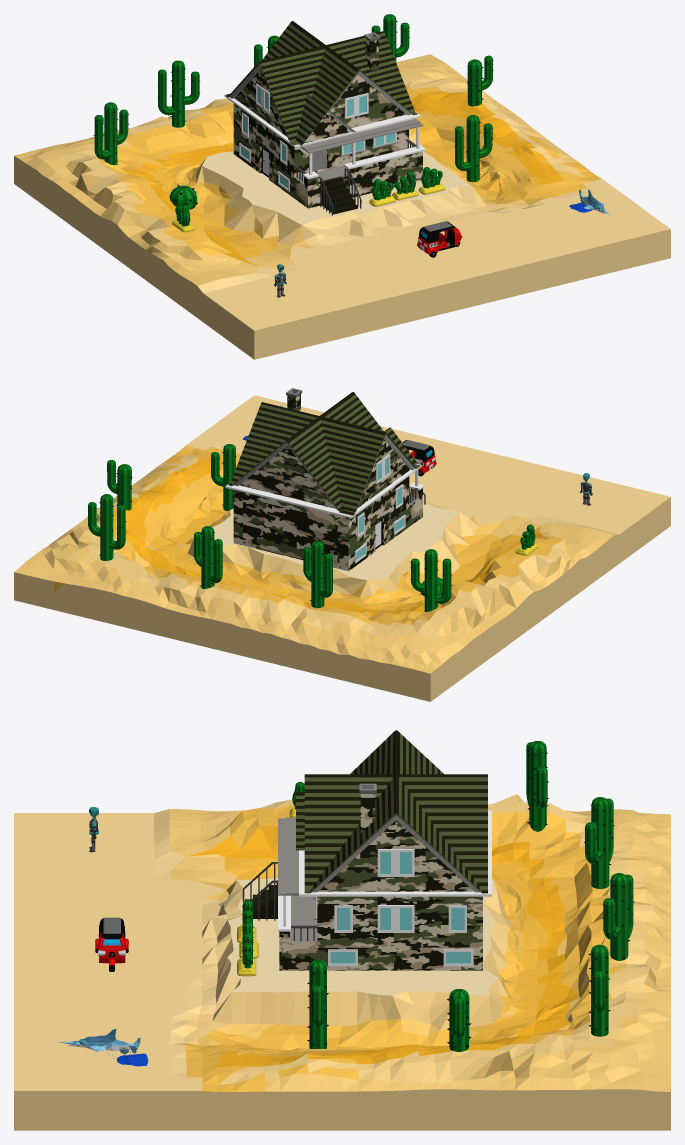
3 views of the same model, one above another, from view 1: azimuth 30°, elevation 25°; view 2: azimuth 150°, elevation 25°; view 3: azimuth 270°, elevation 25° (orthographic). The views are drawn at different scales.
Visible parts, largest first — view 1: Cube.001, Cube.002, Cylinder.037, Cylinder.044, Cylinder.045, VEHICLES_TUC_TUC, Cylinder.038, Cylinder.042, Cylinder.039, Cylinder.041, Sphere.023, Cylinder.040; view 2: Cube.001, Cube.002, Cylinder.042, Cylinder.045, Cylinder.044, Cylinder.043, Cylinder.037, Cylinder.038, VEHICLES_TUC_TUC; view 3: Cube.001, Cube.002, Cylinder.043, Cylinder.044, Cylinder.045, Cylinder.042, Cylinder.037, VEHICLES_TUC_TUC, Cylinder.038, ANIMAL_PEZ_ESPADA, Cylinder.041.
Part boxes in pixels (left/top/right/bottom): Cube.001: left=14, top=54, right=670, bottom=359; Cube.002: left=224, top=21, right=425, bottom=215; Cylinder.037: left=454, top=115, right=493, bottom=182; Cylinder.044: left=157, top=60, right=200, bottom=127; Cylinder.045: left=93, top=102, right=129, bottom=164; VEHICLES_TUC_TUC: left=417, top=221, right=462, bottom=257; Cylinder.038: left=467, top=55, right=493, bottom=106; Cylinder.042: left=371, top=14, right=409, bottom=62; Cylinder.039: left=369, top=179, right=395, bottom=206; Cylinder.041: left=418, top=167, right=445, bottom=194; Sphere.023: left=169, top=184, right=197, bottom=209; Cylinder.040: left=392, top=171, right=418, bottom=200; Cube.001: left=14, top=395, right=670, bottom=701; Cube.002: left=225, top=388, right=425, bottom=571; Cylinder.042: left=88, top=494, right=126, bottom=560; Cylinder.045: left=410, top=549, right=452, bottom=611; Cylinder.044: left=303, top=540, right=333, bottom=607; Cylinder.043: left=193, top=526, right=222, bottom=588; Cylinder.037: left=211, top=444, right=240, bottom=510; Cylinder.038: left=107, top=460, right=132, bottom=510; VEHICLES_TUC_TUC: left=402, top=440, right=436, bottom=476; Cube.001: left=14, top=794, right=670, bottom=1130; Cube.002: left=242, top=730, right=491, bottom=970; Cylinder.043: left=602, top=873, right=634, bottom=960; Cylinder.044: left=584, top=797, right=614, bottom=888; Cylinder.045: left=526, top=741, right=548, bottom=831; Cylinder.042: left=588, top=944, right=610, bottom=1036; Cylinder.037: left=307, top=959, right=328, bottom=1048; VEHICLES_TUC_TUC: left=95, top=917, right=128, bottom=971; Cylinder.038: left=447, top=989, right=471, bottom=1051; ANIMAL_PEZ_ESPADA: left=57, top=1029, right=148, bottom=1066; Cylinder.041: left=237, top=933, right=256, bottom=976.
Size of the model in its own units: 4002 by 1646 by 4001.
Materials: 37 (4 with a texture image).
